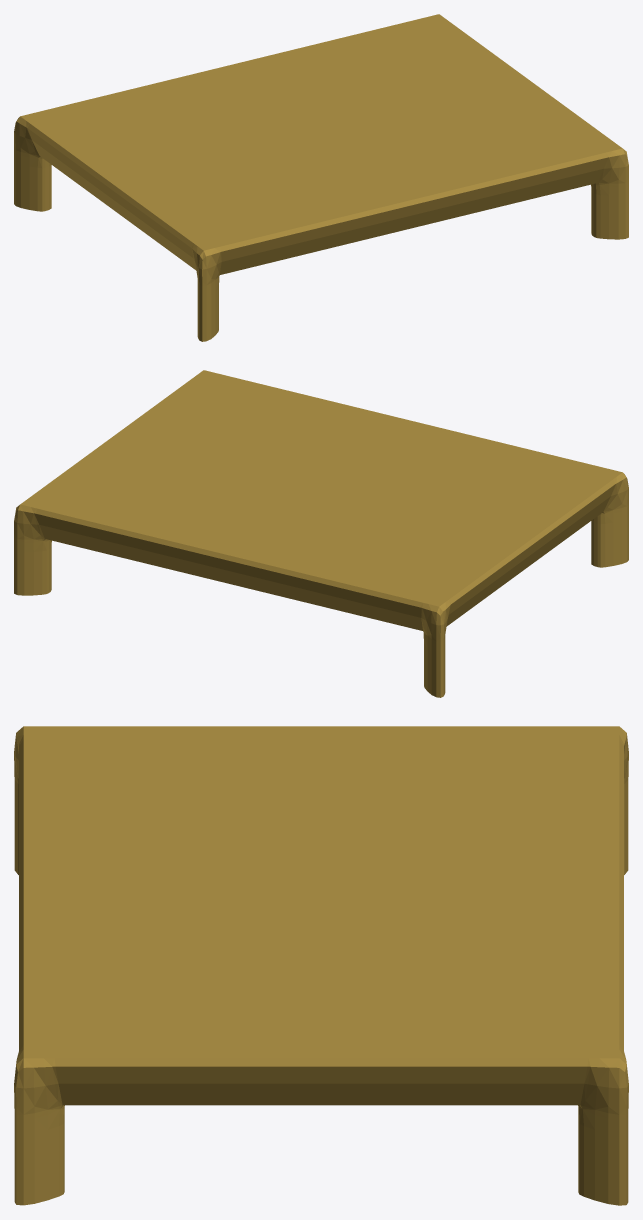
File: ext_table.obj
3 renders of one model, top to bottom at view 1: azimuth 30°, elevation 25°; view 2: azimuth 150°, elevation 25°; view 3: azimuth 270°, elevation 25°, orthographic. The views are drawn at different scales.
Visible parts, largest first — view 1: mesita_ext2_Cube.012; view 2: mesita_ext2_Cube.012; view 3: mesita_ext2_Cube.012.
Part boxes in pixels (box(x1,y1,x2,y2)): mesita_ext2_Cube.012: box(14, 14, 628, 341); mesita_ext2_Cube.012: box(14, 370, 628, 697); mesita_ext2_Cube.012: box(14, 726, 628, 1205).
Size of the model in its own units: 0.9981 by 0.1975 by 0.7635.
